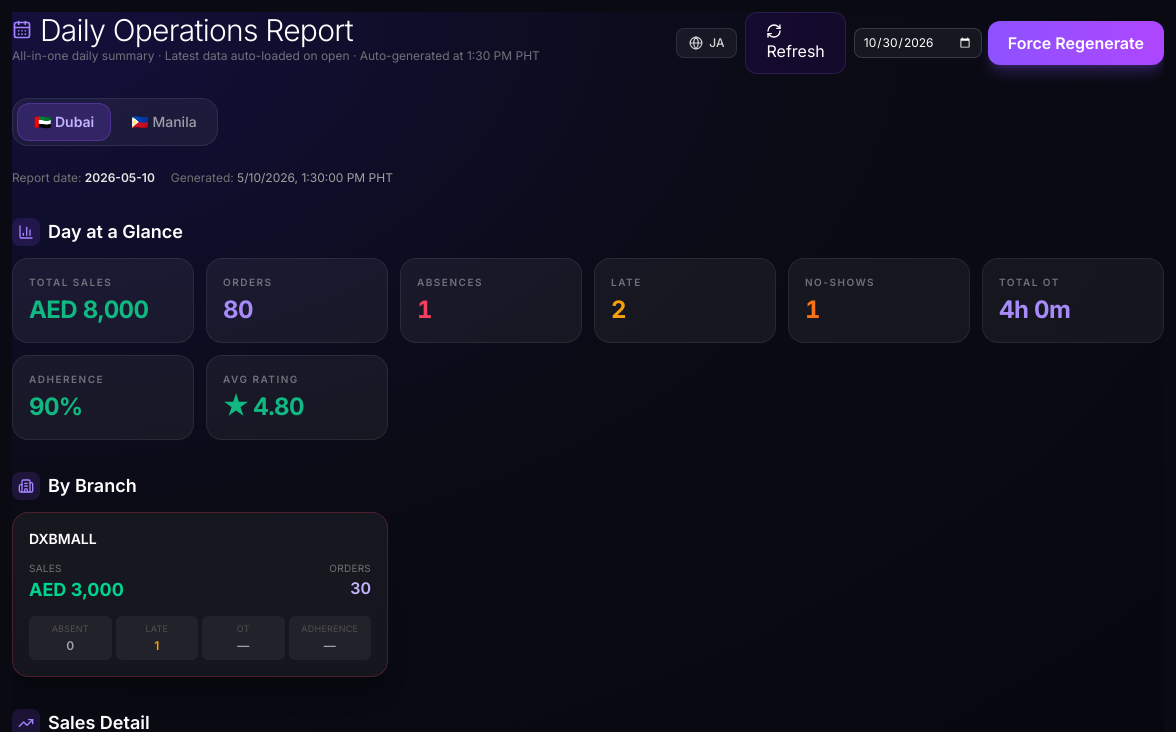
Test: DailyReportPage › Day at a Glance section › shows Total Sales in PHP formatting for Manila
Expected: the heading "Day at a Glance" is shown, [48,218,183,246]
What coordinates should you click on to do the following:
click the button "🇵🇭 Manila"
I would click on:
 (164, 122)
Its box is [115,104,213,140].
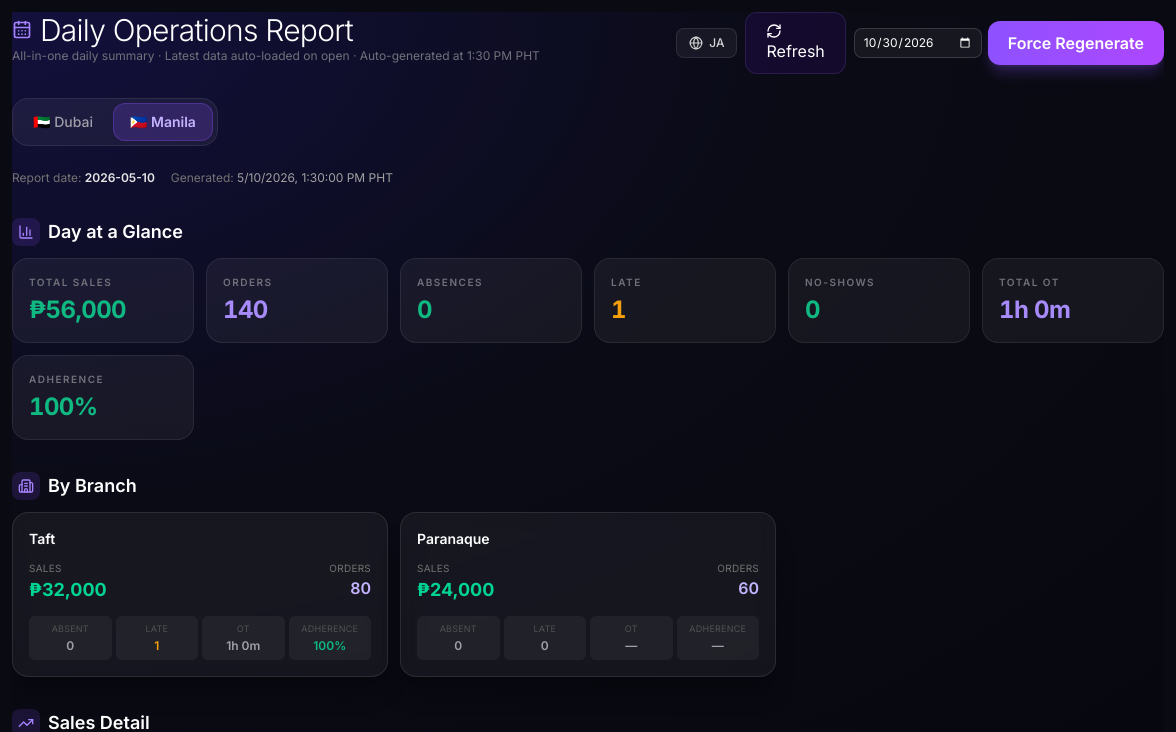
Now the text "Paranaque" is shown, box [417,530,490,547]
